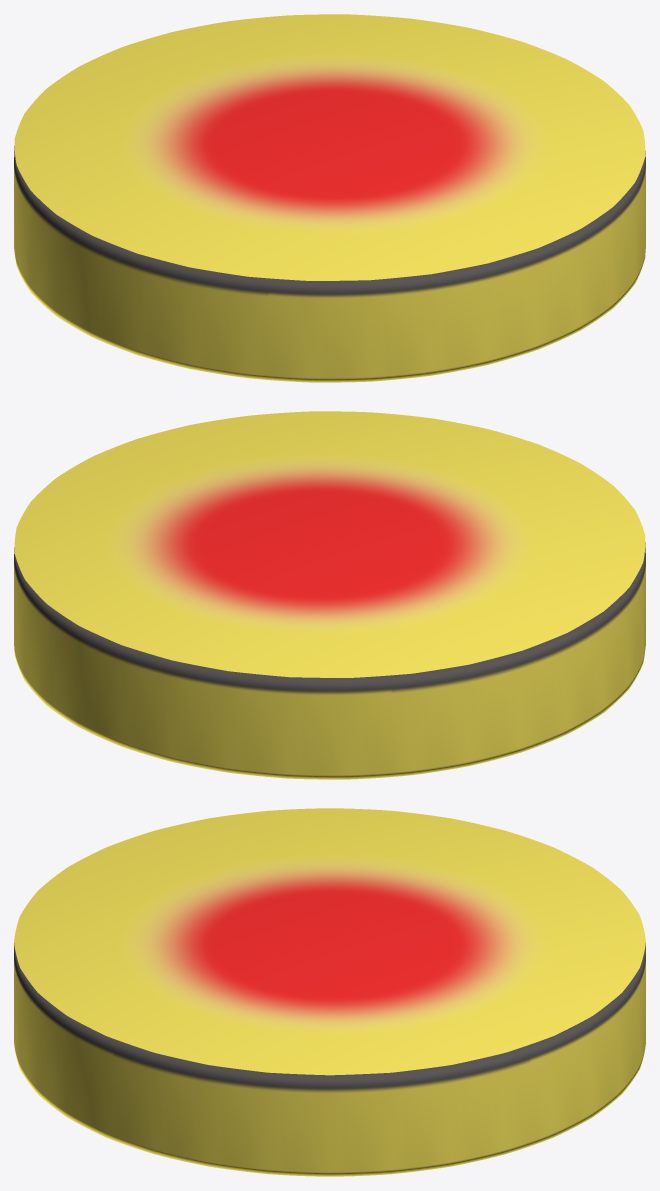
Rendered from Target.fbx.
The picture shows the model from 3 angles, top to bottom: view 1: azimuth 30°, elevation 25°; view 2: azimuth 150°, elevation 25°; view 3: azimuth 270°, elevation 25°; orthographic projection.
Parts seen in each view (by area): view 1: Cylinder; view 2: Cylinder; view 3: Cylinder.
Part boxes in pixels (x1,y1,x2,y2): Cylinder: (14,14,645,382); Cylinder: (14,411,645,779); Cylinder: (14,808,645,1176).
Bounding box in the file's own units: 769 × 136 × 769.
